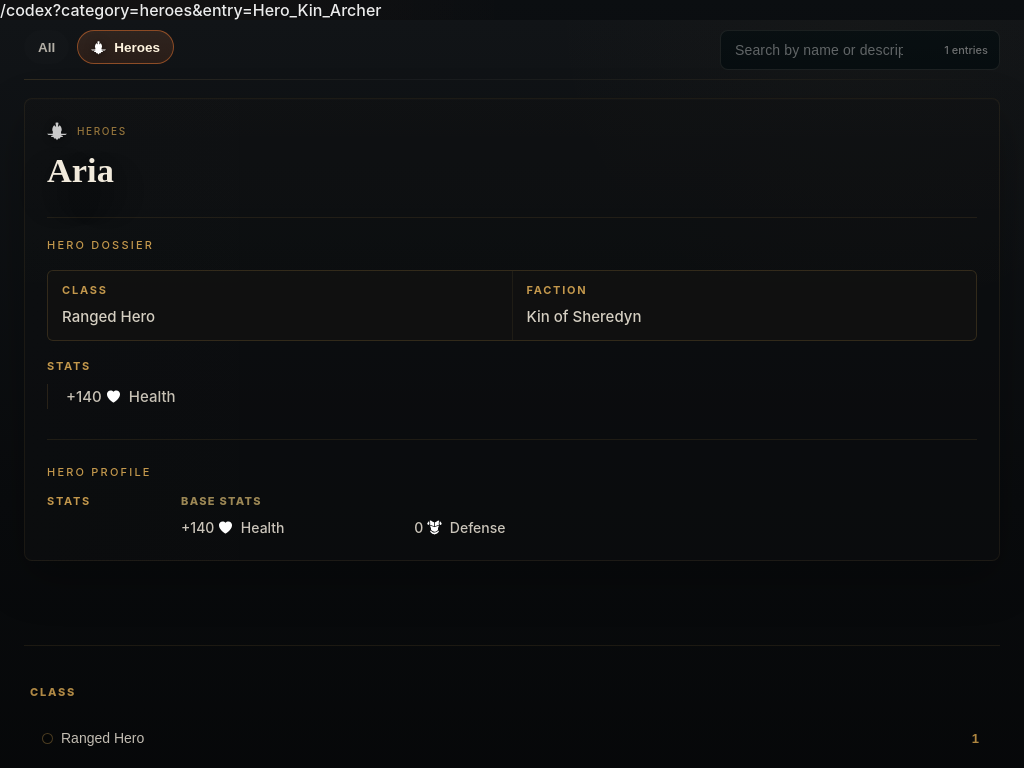
Test: CodexPage Tech Equipment Hero Unit archives › returns from Hero detail to the archive when Hero filters change
The width and height of the screenshot is (1024, 768).
Expected: the heading "Aria" is shown, [47,151,114,189]
Click the button "Ranged Hero 1": [103, 738] box [30,717,990,761]
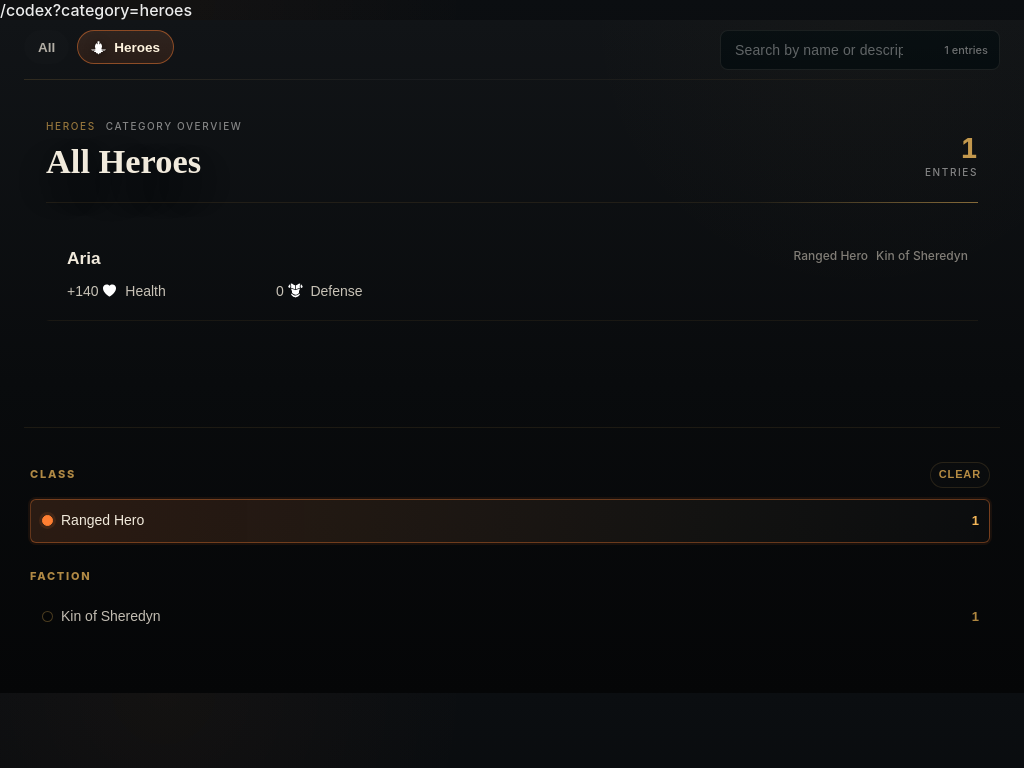
Expected: the text with test id "location-probe" reads "/codex?category=heroes", [0,0,192,20]
Expected: the heading "All Heroes" is shown, [46,144,201,178]
